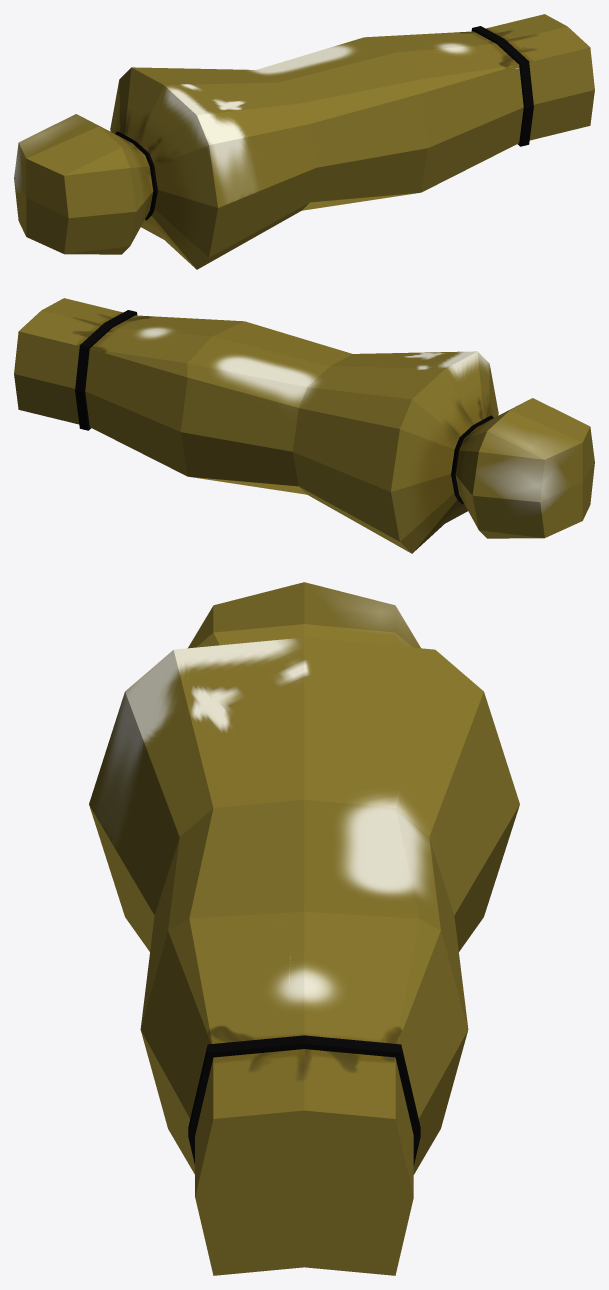
The model's file is GOLDLesh.glb.
3 renders of one model, top to bottom at view 1: azimuth 30°, elevation 25°; view 2: azimuth 150°, elevation 25°; view 3: azimuth 270°, elevation 25°, orthographic. The views are drawn at different scales.
Parts seen in each view (by area): view 1: Cube.007; view 2: Cube.007; view 3: Cube.007.
Boxes of the visible parts, x1,y1,x2,y2 form: Cube.007: (14, 14, 594, 269); Cube.007: (14, 298, 594, 553); Cube.007: (89, 582, 519, 1275).
Size of the model in its own units: 7.85 by 2.23 by 2.71.
Materials: 2 (1 with a texture image).
